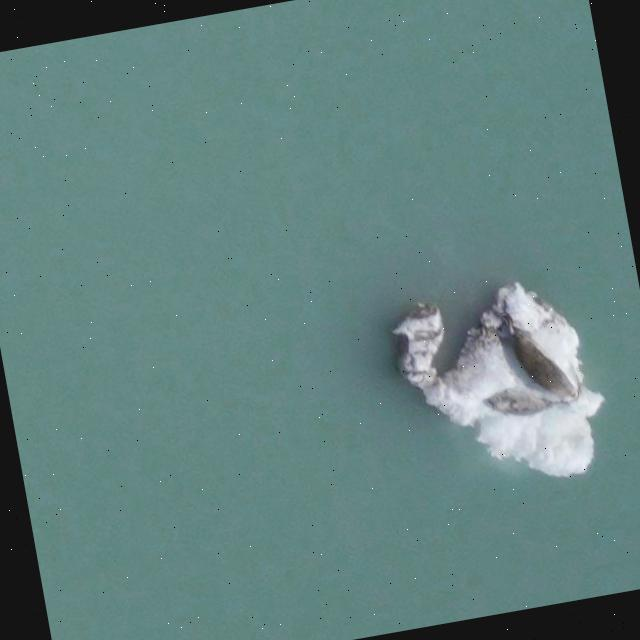seal: (488, 304, 580, 411), (479, 382, 569, 427)
